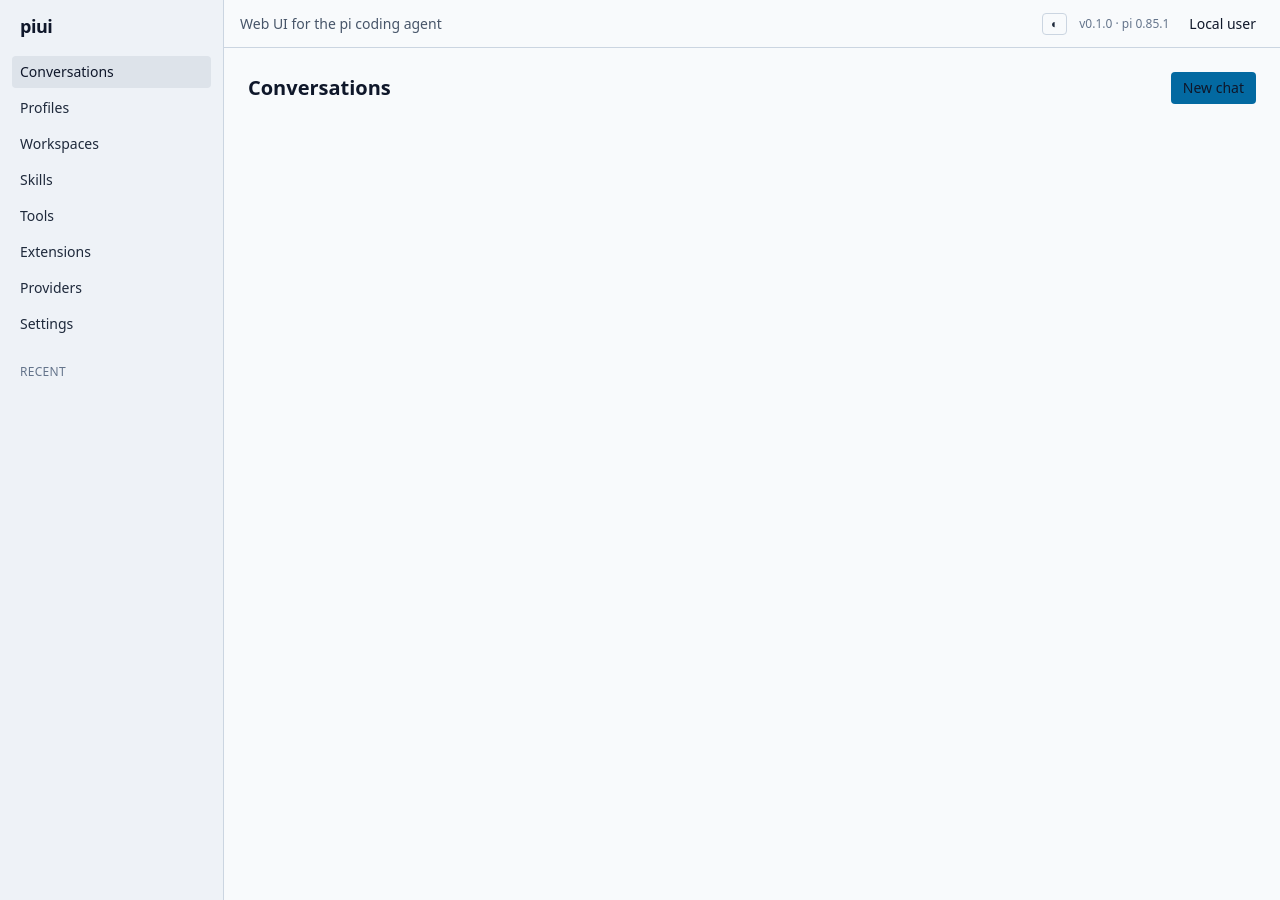
Test: AuthGate › offers a user menu that signs out
Click the button "Local user": (1223, 24) x1=1181 y1=10 x2=1264 y2=38
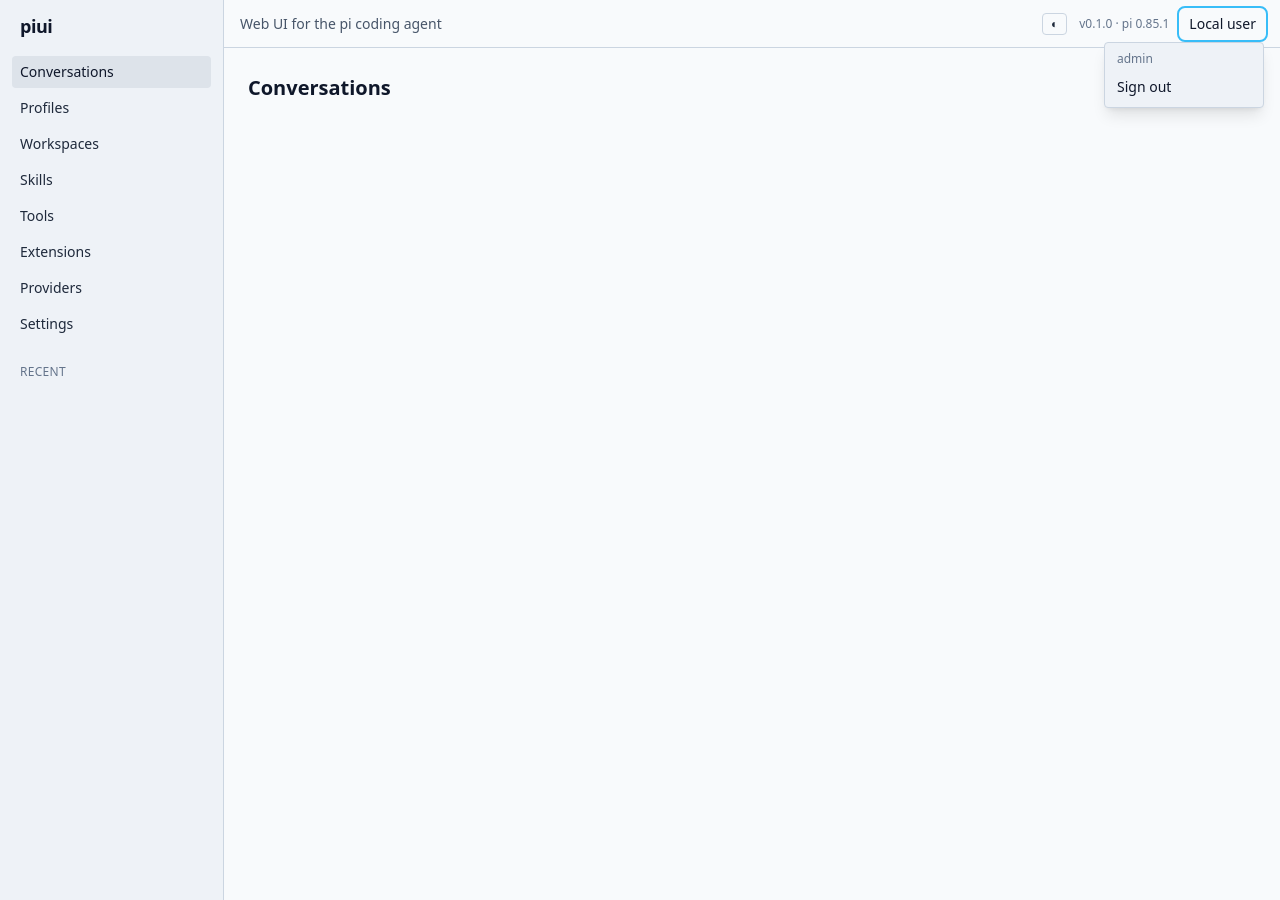
Click the menu item "Sign out": (1184, 86) x1=1105 y1=70 x2=1263 y2=102
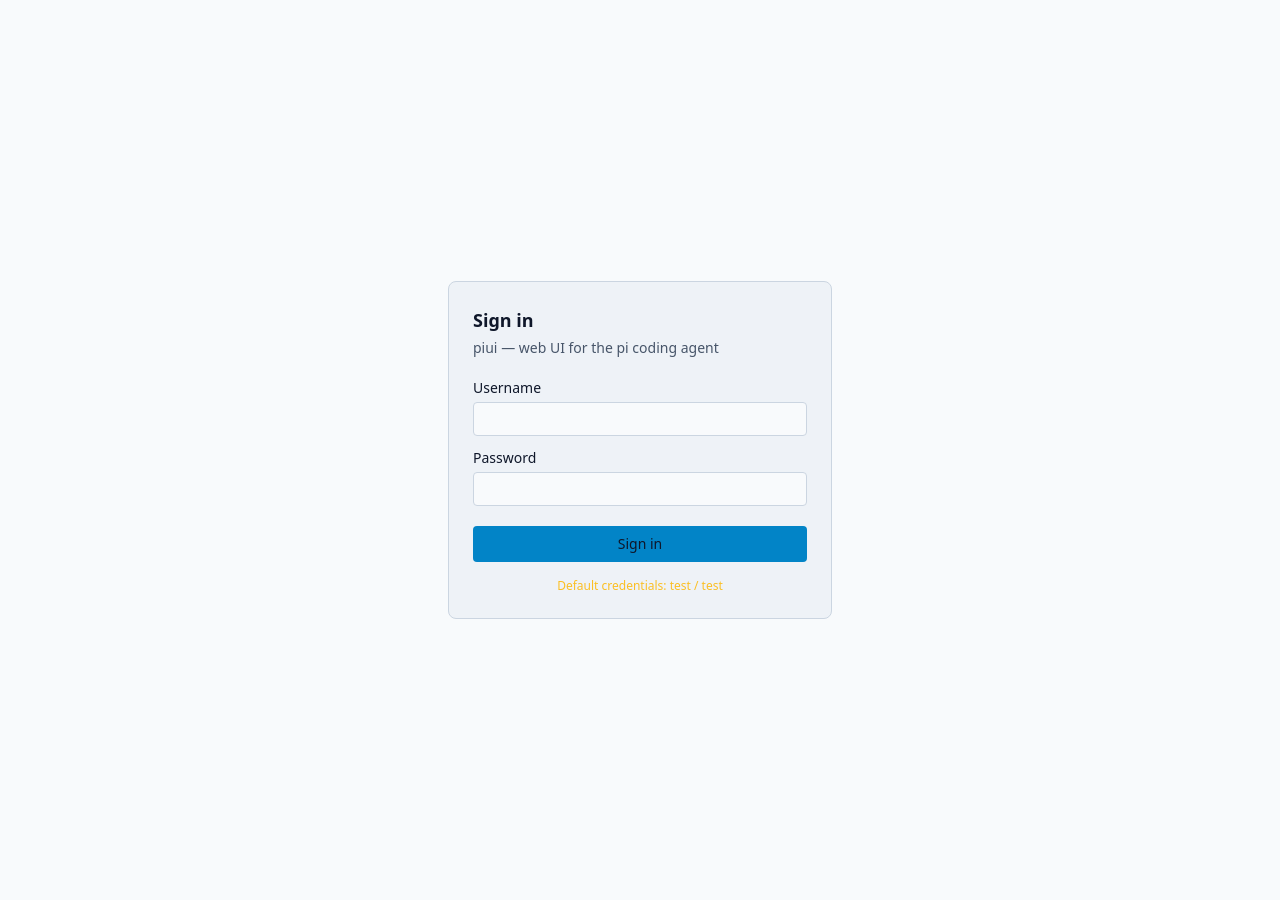
Check: the heading "Sign in" is shown, box x1=473 y1=308 x2=534 y2=332
